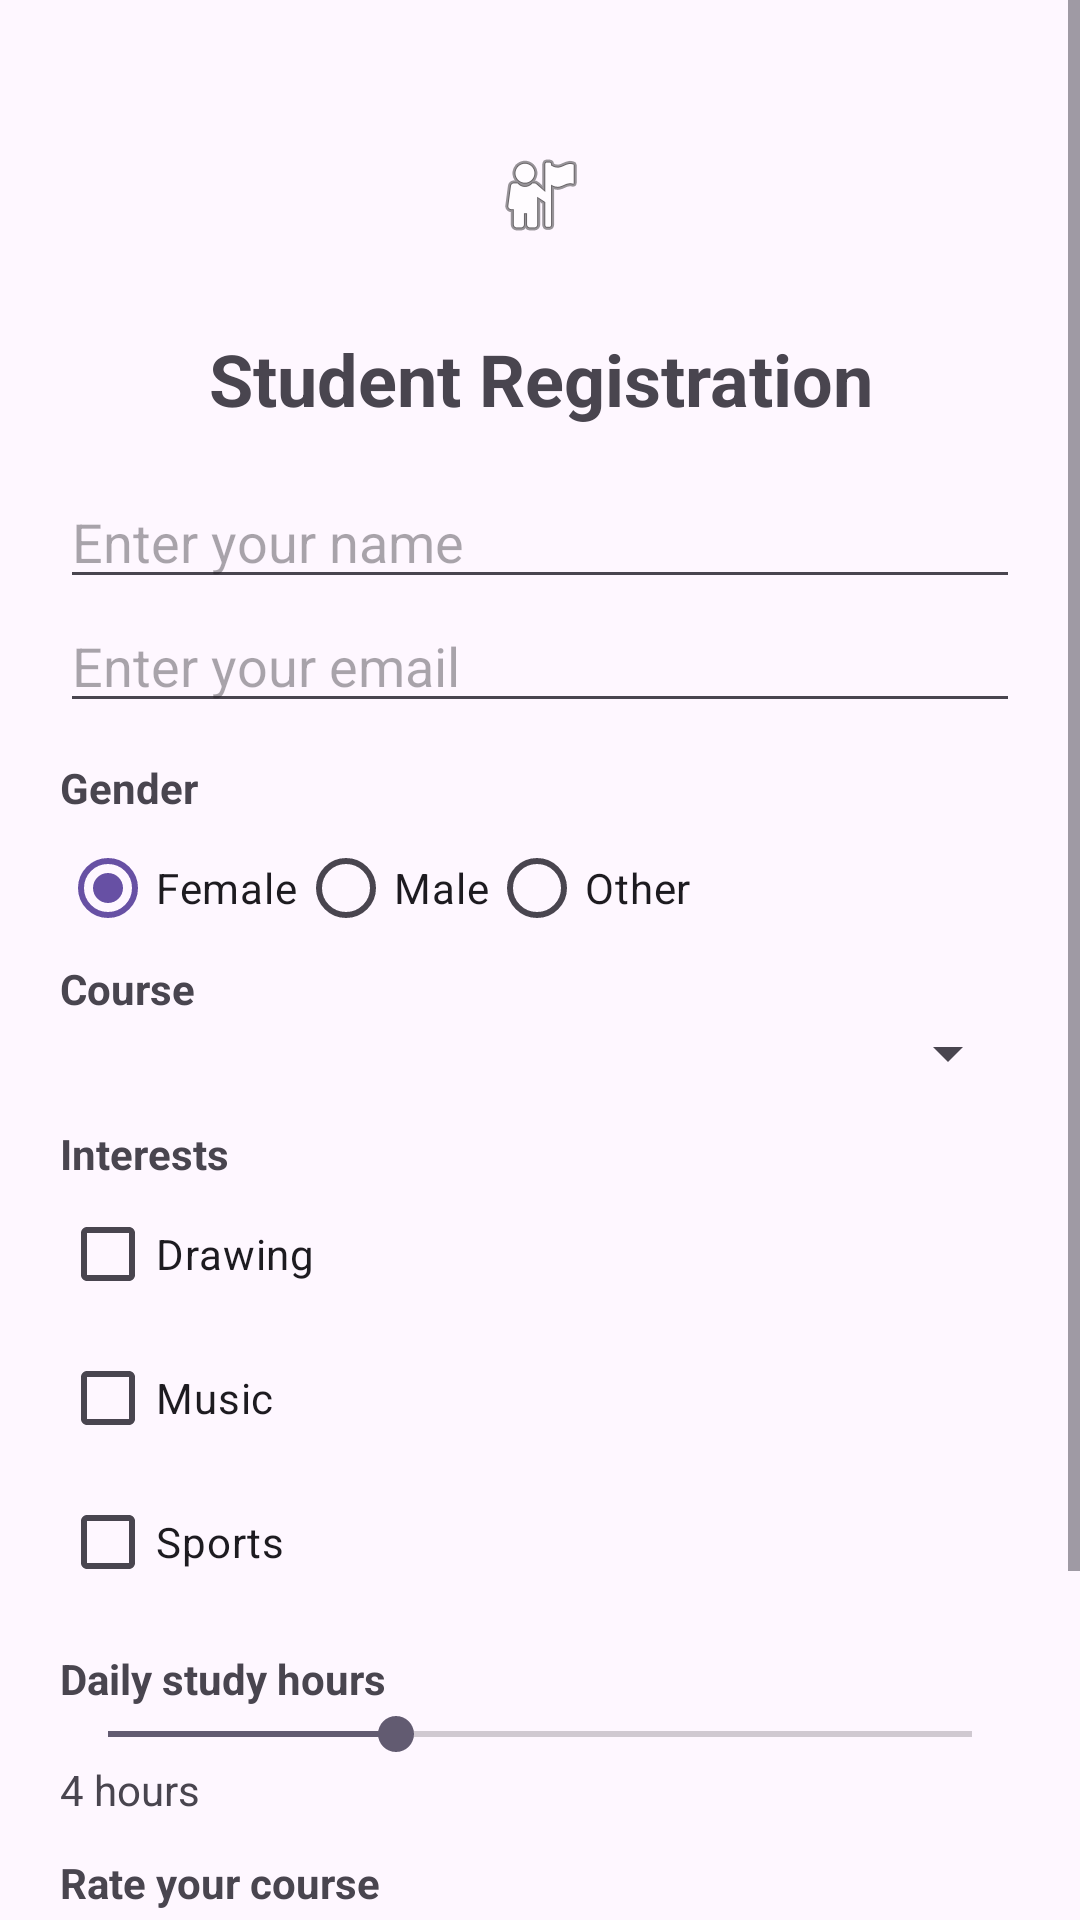

Screen size 1080px×1920px. Icon name, then its box in pixels as [left=x1, top=y1, right=x2, bottom=y2]:
Student profile image: [left=505, top=159, right=577, bottom=231]
